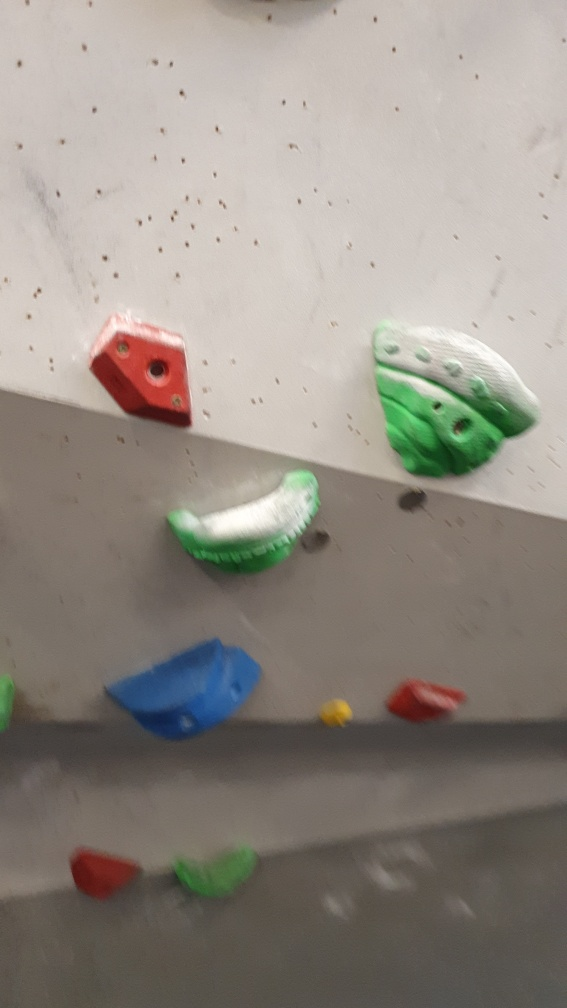Crimp: (83, 310, 199, 431)
Hand Start: (299, 518, 333, 564), (394, 481, 430, 515)
Jug: (367, 317, 546, 486), (163, 469, 327, 578)
Pinch: (100, 626, 268, 743)
